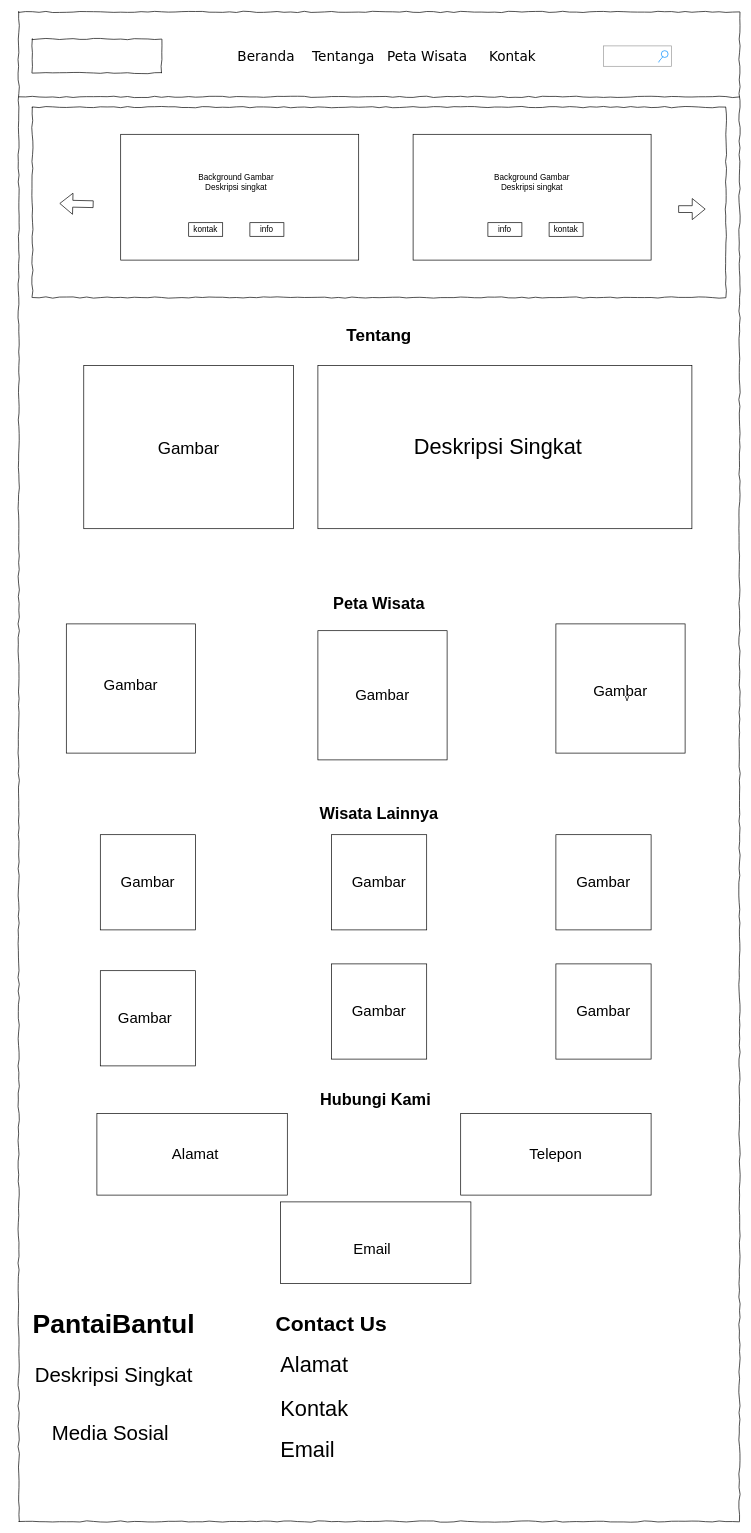
This 751x1533 diagram has some shape labels left out. The centre of each missing label's shape, as x and y in pixels:
"Nama Situs" goes at (97,55).
"Search" goes at (637,55).
